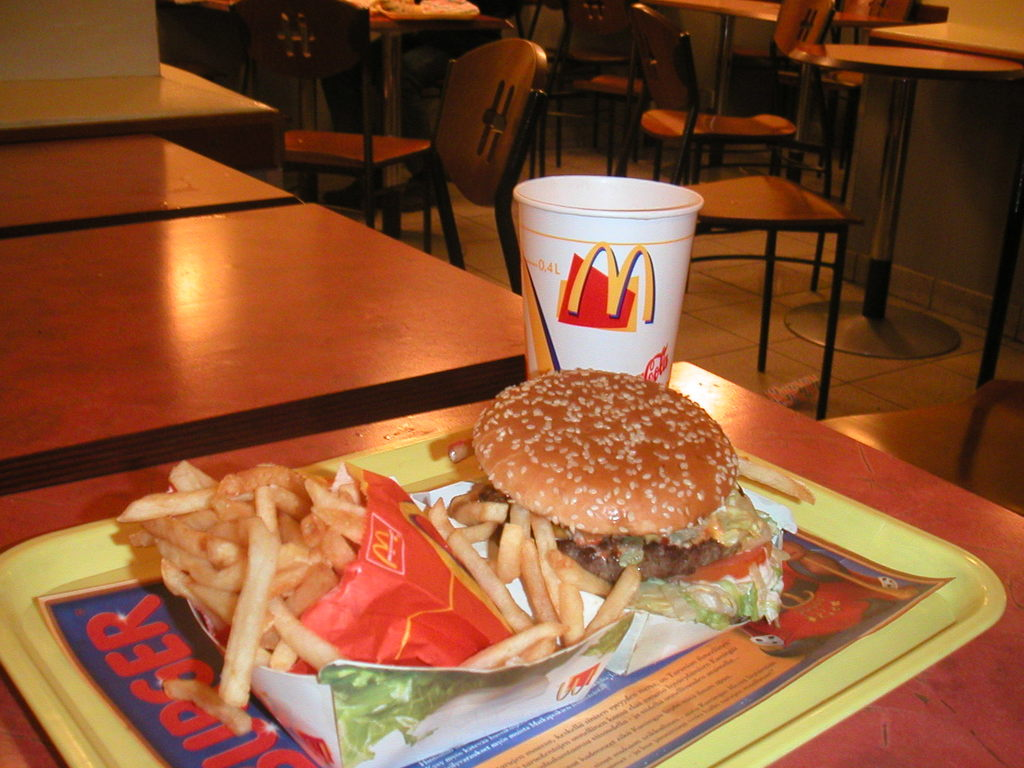Hamburger: (470, 370, 780, 632)
